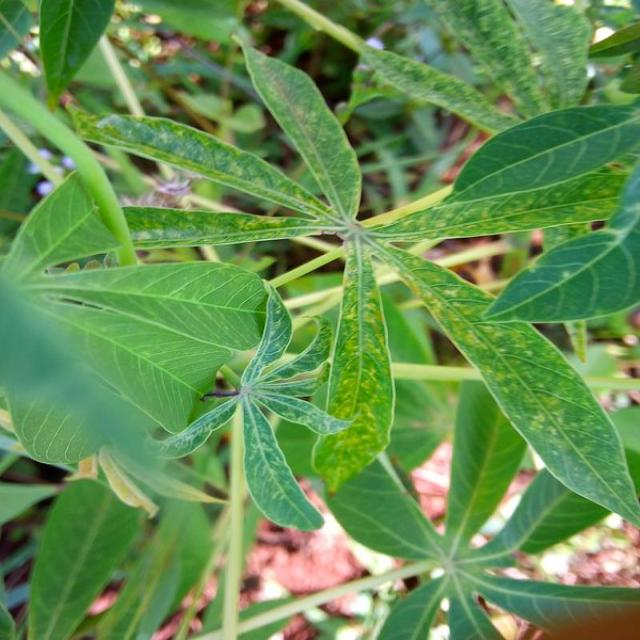cassava leaf: (0, 167, 270, 473), (365, 235, 639, 531), (310, 236, 396, 495)
